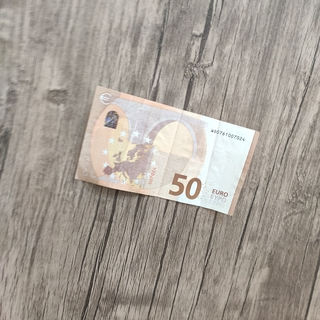50EUROBack: (72, 83, 261, 218)
